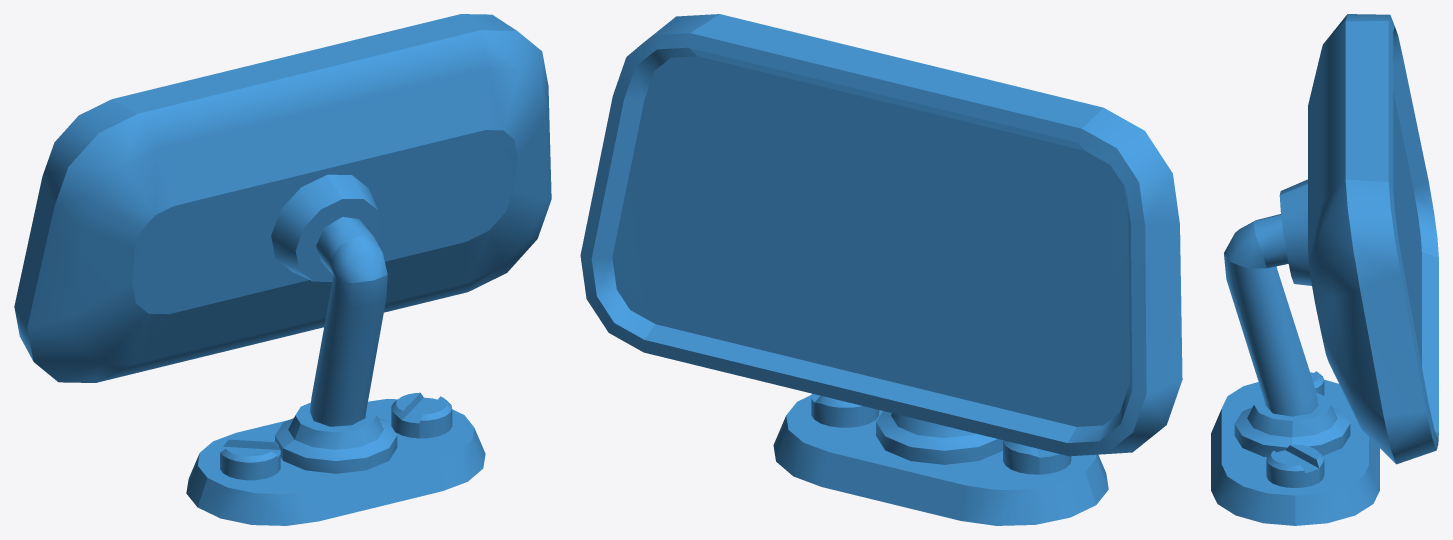
The model's file is obj_rewards_backmirror.fbx.
The picture shows the model from 3 angles, left to right: view 1: azimuth 30°, elevation 25°; view 2: azimuth 150°, elevation 25°; view 3: azimuth 270°, elevation 25°; orthographic projection. The views are drawn at different scales.
Parts seen in each view (by area): view 1: bm_part1_lp.005, bm_part1_lp.004; view 2: bm_part1_lp.005, bm_part1_lp.004; view 3: bm_part1_lp.005, bm_part1_lp.004.
Part boxes in pixels (left/top/right/bottom): bm_part1_lp.005: left=14, top=14, right=551, bottom=382; bm_part1_lp.004: left=186, top=217, right=485, bottom=525; bm_part1_lp.005: left=580, top=14, right=1182, bottom=456; bm_part1_lp.004: left=773, top=393, right=1108, bottom=525; bm_part1_lp.005: left=1279, top=14, right=1438, bottom=464; bm_part1_lp.004: left=1211, top=214, right=1379, bottom=525.
Size of the model in its own units: 2.04 by 1.42 by 0.8119.
